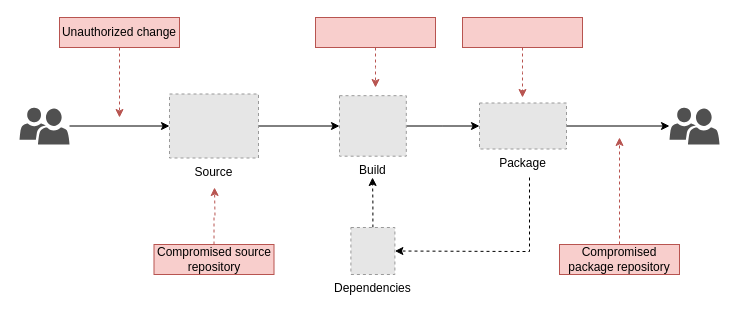
Some shapes in this 739 by 313 pixel diagram are drawn without their labels. Grey dashed boxes stand in for pictures. The centre of each missing label's shape, as x and y in pixels:
"Compromised build process" goes at (375,32).
"Consumer" goes at (694,125).
"Developer" goes at (44,125).
"Modified package" goes at (522,32).
